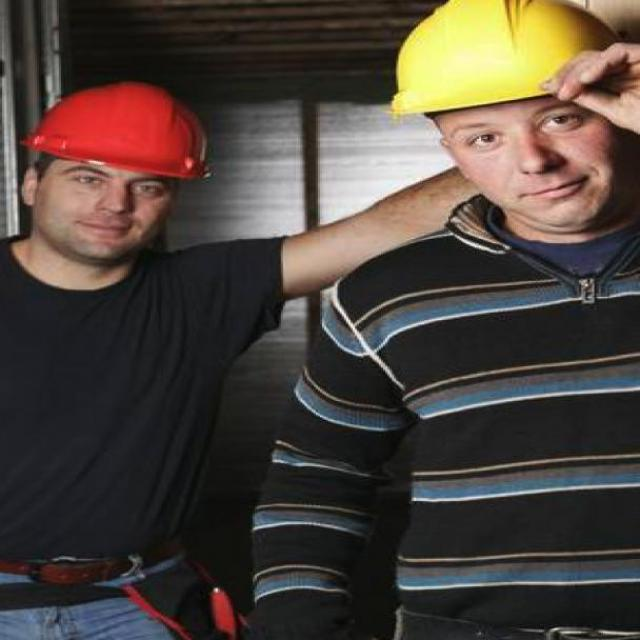helmet: (387, 6, 634, 233), (11, 69, 201, 264)
